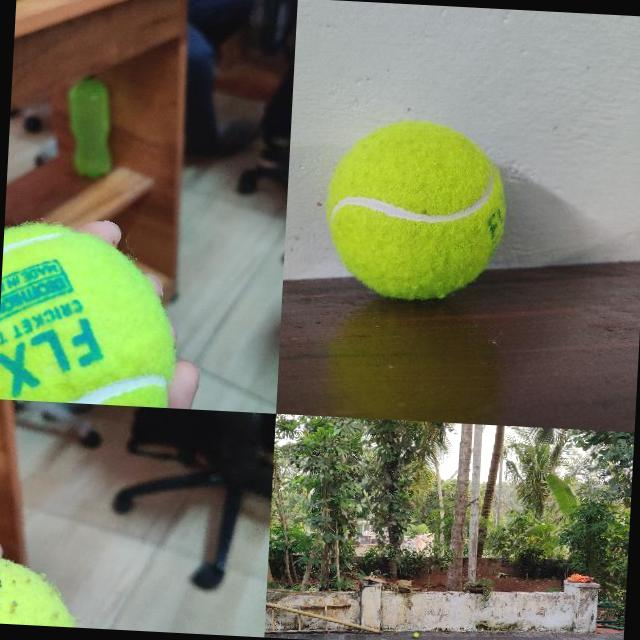Tennis Ball: (320, 116, 510, 304), (0, 222, 181, 407), (412, 634, 418, 638)
